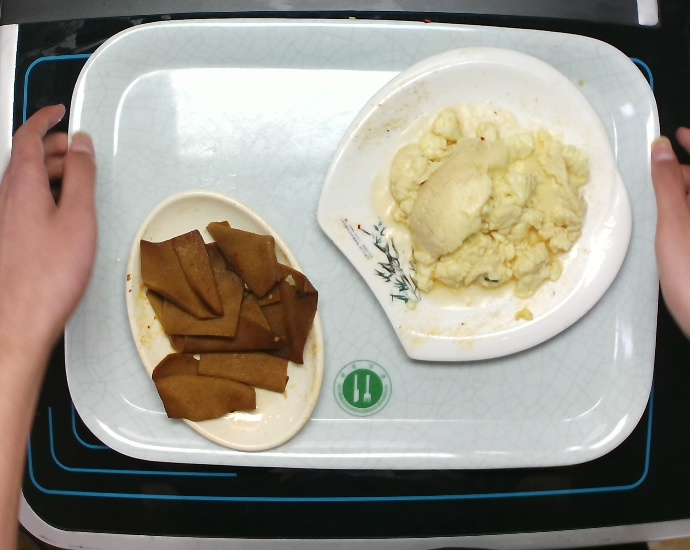JYsf-Mian_Pan: (315, 48, 637, 365)
JYsf-Tuo_Yuan_Wan: (125, 185, 328, 461)
